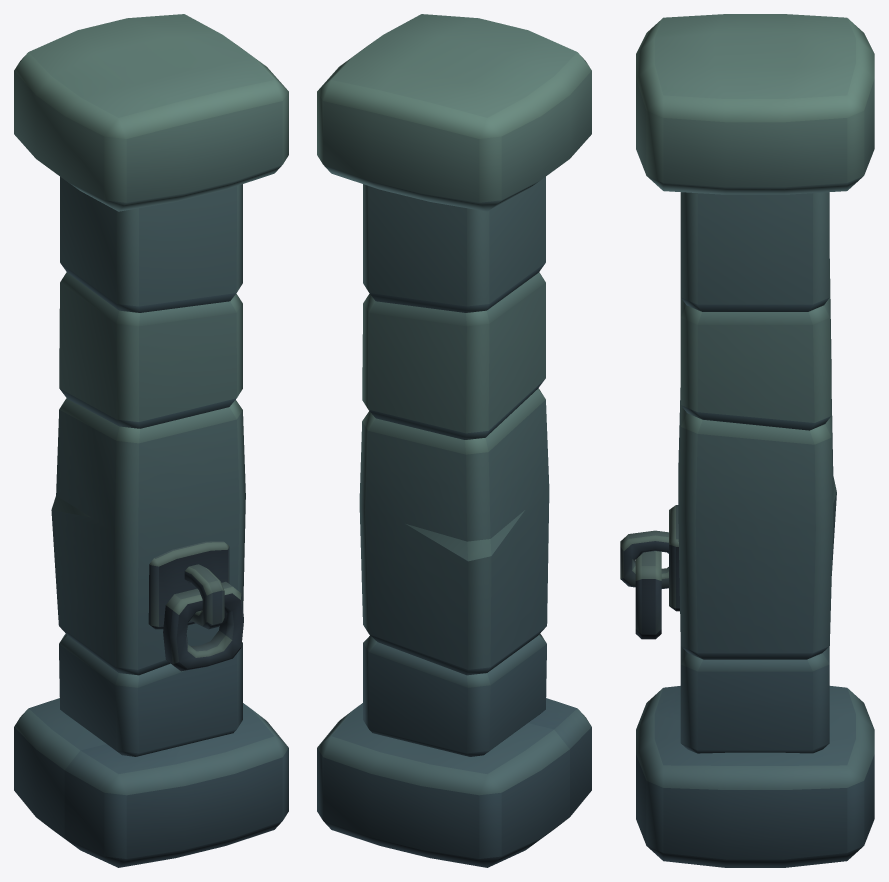
3 views of the same model, side by side, from view 1: azimuth 30°, elevation 25°; view 2: azimuth 150°, elevation 25°; view 3: azimuth 270°, elevation 25° (orthographic). The views are drawn at different scales.
Visible parts, largest first — view 1: pillar2_LOD0; view 2: pillar2_LOD0; view 3: pillar2_LOD0.
Part boxes in pixels (x1,y1,x2,y2): pillar2_LOD0: (14,14,288,867); pillar2_LOD0: (317,14,591,867); pillar2_LOD0: (620,14,874,867).
Size of what is drawn, in the model's own units: 113 by 405 by 120.
